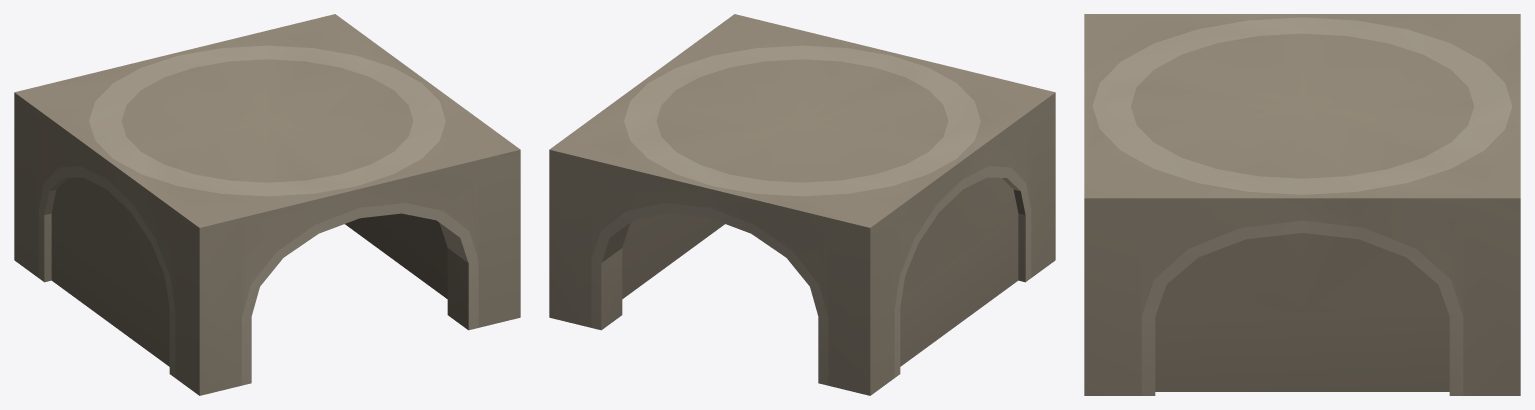
The model's file is dome.arch_2way.stone.glb.
3 renders of one model, left to right at view 1: azimuth 30°, elevation 25°; view 2: azimuth 150°, elevation 25°; view 3: azimuth 270°, elevation 25°, orthographic. The views are drawn at different scales.
Parts seen in each view (by area): view 1: dome_arch_2way_stone; view 2: dome_arch_2way_stone; view 3: dome_arch_2way_stone.
Boxes of the visible parts, <box> form: dome_arch_2way_stone: <box>14,14,520,395</box>; dome_arch_2way_stone: <box>549,14,1055,395</box>; dome_arch_2way_stone: <box>1084,14,1520,395</box>.
Size of what is drawn, in the model's own units: 8 by 4 by 8.
